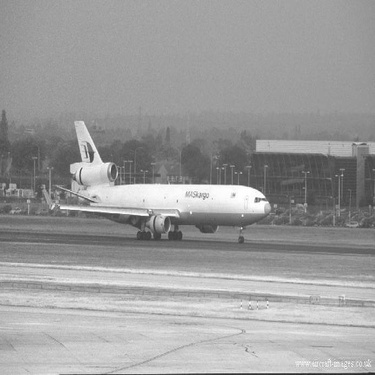airplane: (31, 100, 285, 258)
